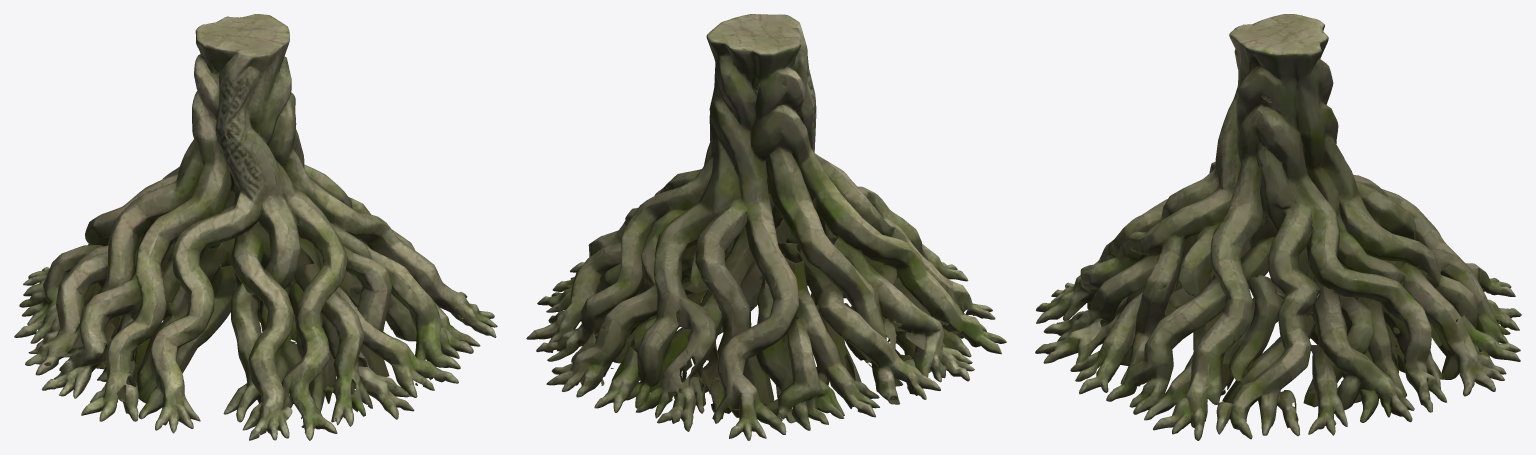
Rendered from trunk_roots_v2.glb.
3 renders of one model, left to right at view 1: azimuth 30°, elevation 25°; view 2: azimuth 150°, elevation 25°; view 3: azimuth 270°, elevation 25°, orthographic.
Parts seen in each view (by area): view 1: world; view 2: world; view 3: world.
Boxes of the visible parts, <box> form: world: <box>14,14,497,440</box>; world: <box>526,14,1006,440</box>; world: <box>1035,14,1521,440</box>.
Size of the model in its own units: 0.9917 by 0.6944 by 1.
1 material, 1 textured.
